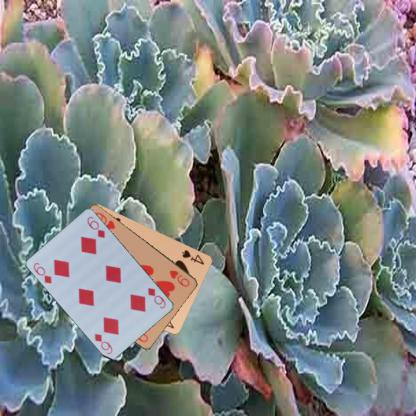4s: (180, 247, 206, 266)
6d: (145, 285, 168, 310), (31, 260, 53, 285)
9h: (167, 268, 191, 288)
